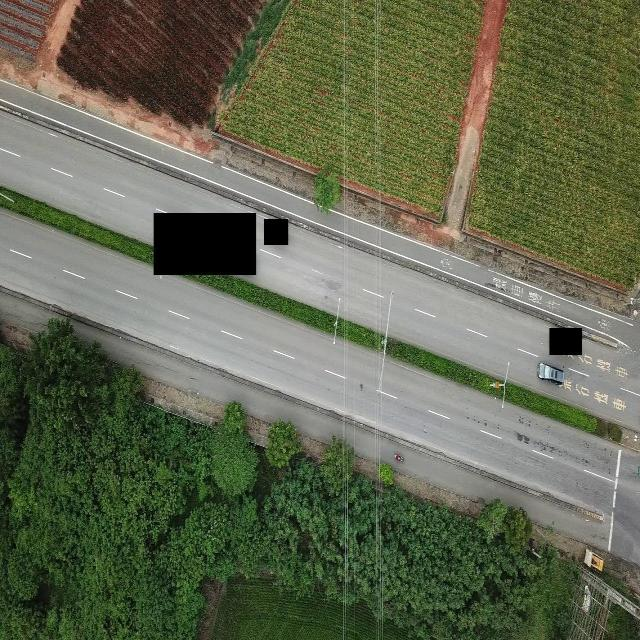car: (536, 360, 564, 385)
